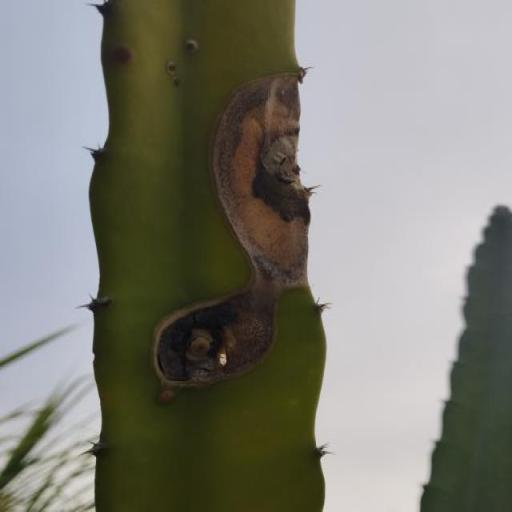stemcanker: (105, 38, 142, 77), (180, 35, 202, 57), (164, 58, 179, 77)
